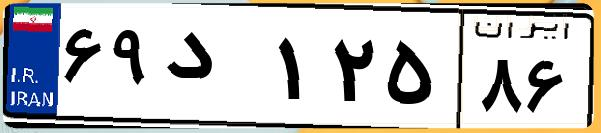1: (270, 28, 330, 110)
2: (330, 28, 385, 110)
5: (385, 28, 445, 110)
6: (57, 26, 110, 100), (525, 38, 570, 115)
8: (475, 38, 525, 113)
9: (110, 28, 158, 98)
د: (158, 20, 270, 120)
